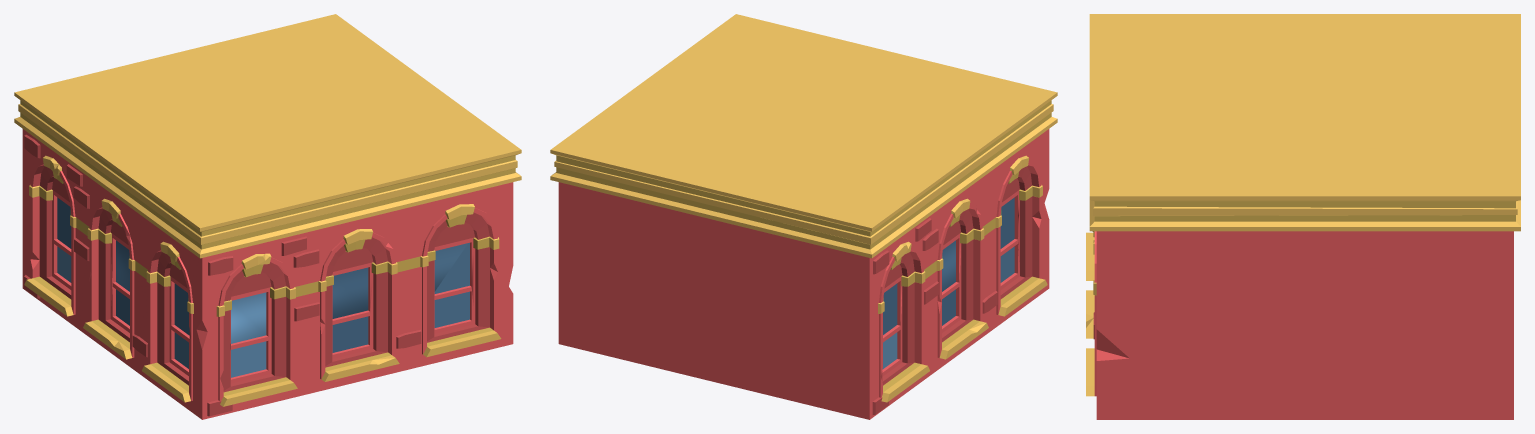
The model's file is Mod_Edificio_1.fbx.
The picture shows the model from 3 angles, left to right: view 1: azimuth 30°, elevation 25°; view 2: azimuth 150°, elevation 25°; view 3: azimuth 270°, elevation 25°; orthographic projection. The views are drawn at different scales.
Parts seen in each view (by area): view 1: Edificio_1; view 2: Edificio_1; view 3: Edificio_1.
Boxes of the visible parts, x1=… form: Edificio_1: x1=14, y1=14, x2=521, y2=419; Edificio_1: x1=550, y1=14, x2=1057, y2=419; Edificio_1: x1=1086, y1=14, x2=1520, y2=419.
Bounding box in the file's own units: 5.21 × 3 × 5.21.
